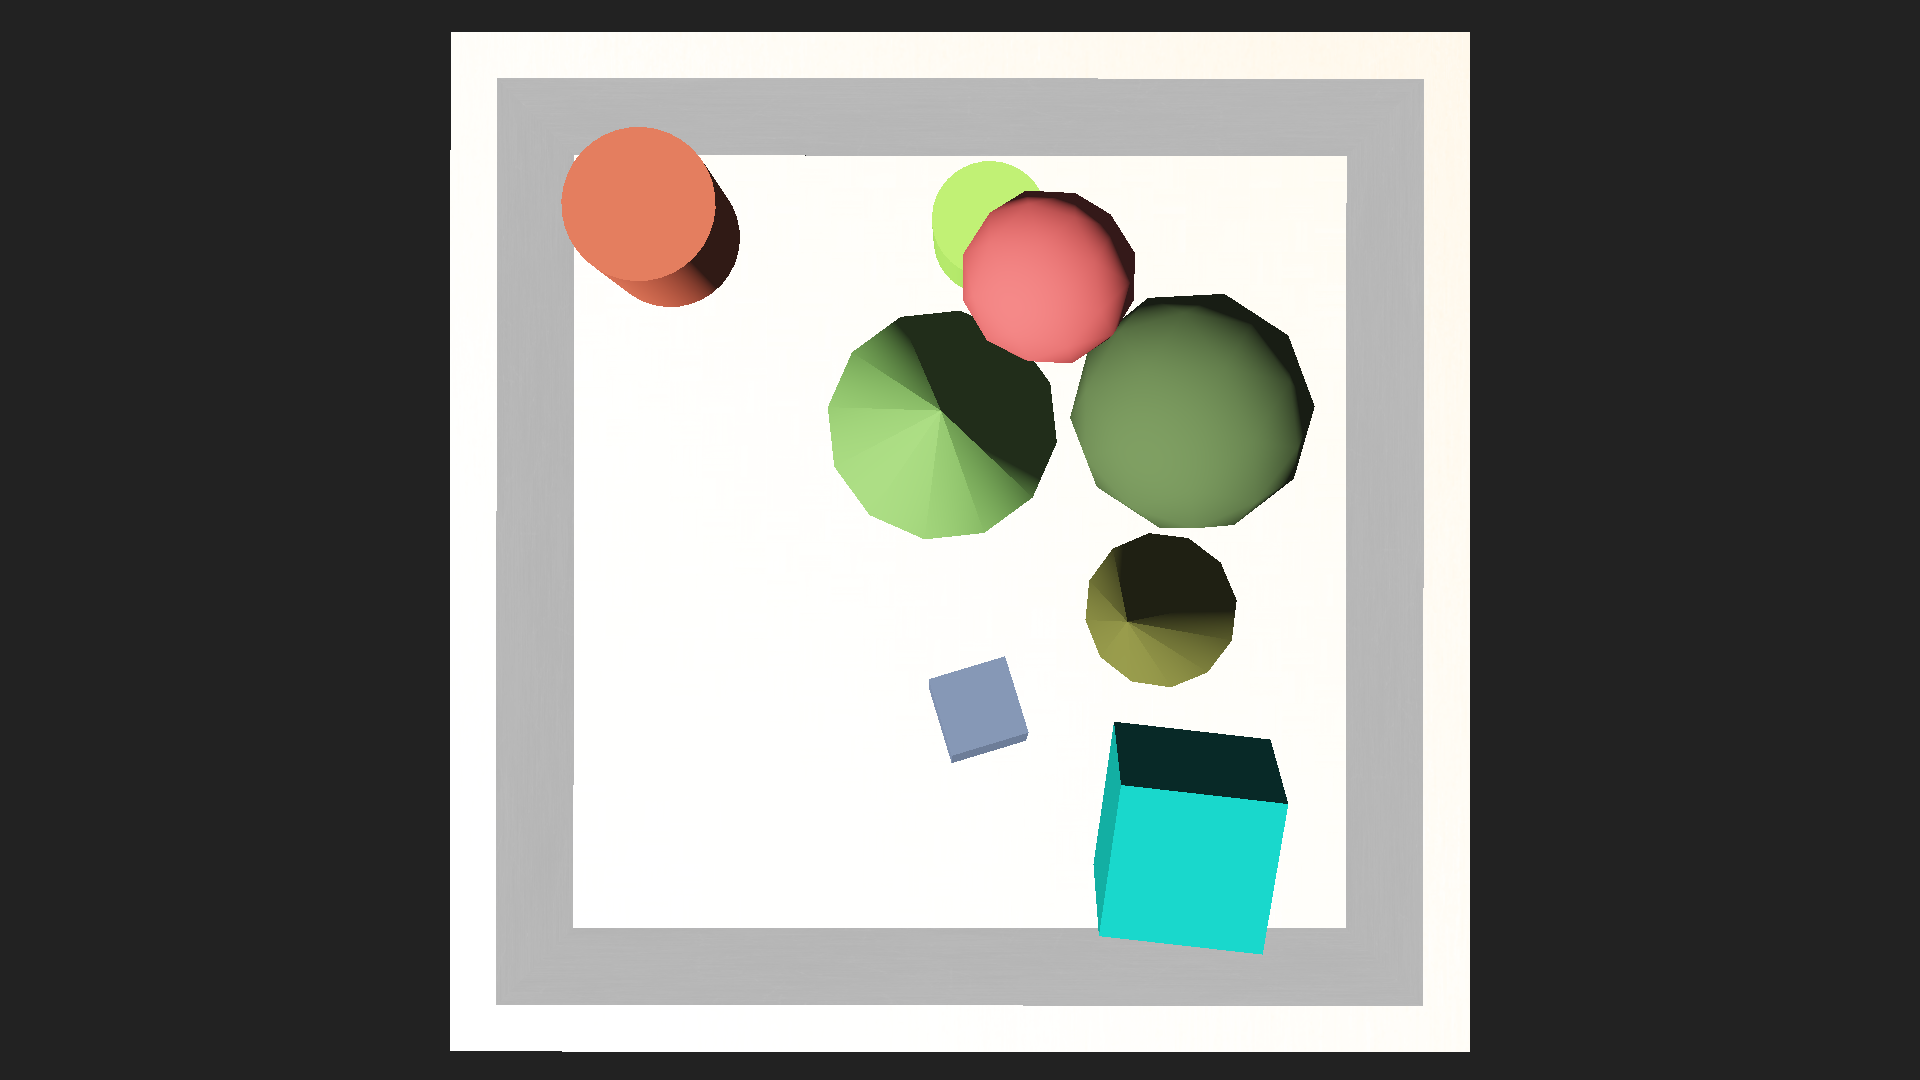3: (1089, 717, 1291, 963), (927, 651, 1029, 770)
cone: (560, 127, 740, 306)
cylinder: (793, 264, 1088, 559), (1039, 530, 1258, 705)
sphere: (1068, 289, 1312, 533), (959, 187, 1137, 365)
